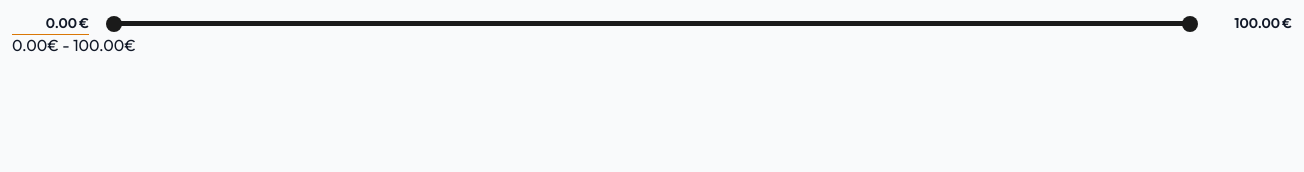
Test: Range Component › prevents max handle from crossing min handle during drag
Press the mouse on the slider with test id "max-handle": (1190, 24) [1182, 16, 1198, 32]
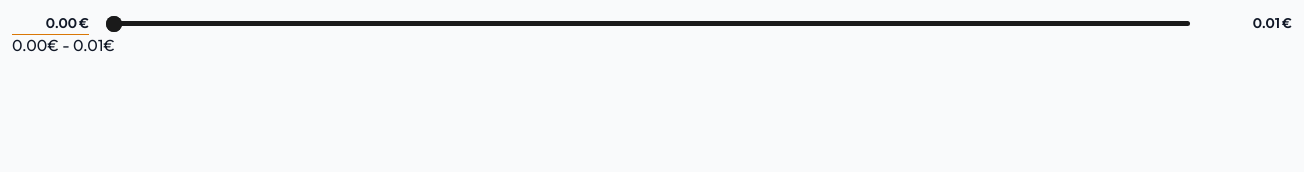
Check: the text with test id "selection-result" reads "0.00€ - 0.01€", box [12, 35, 115, 55]
